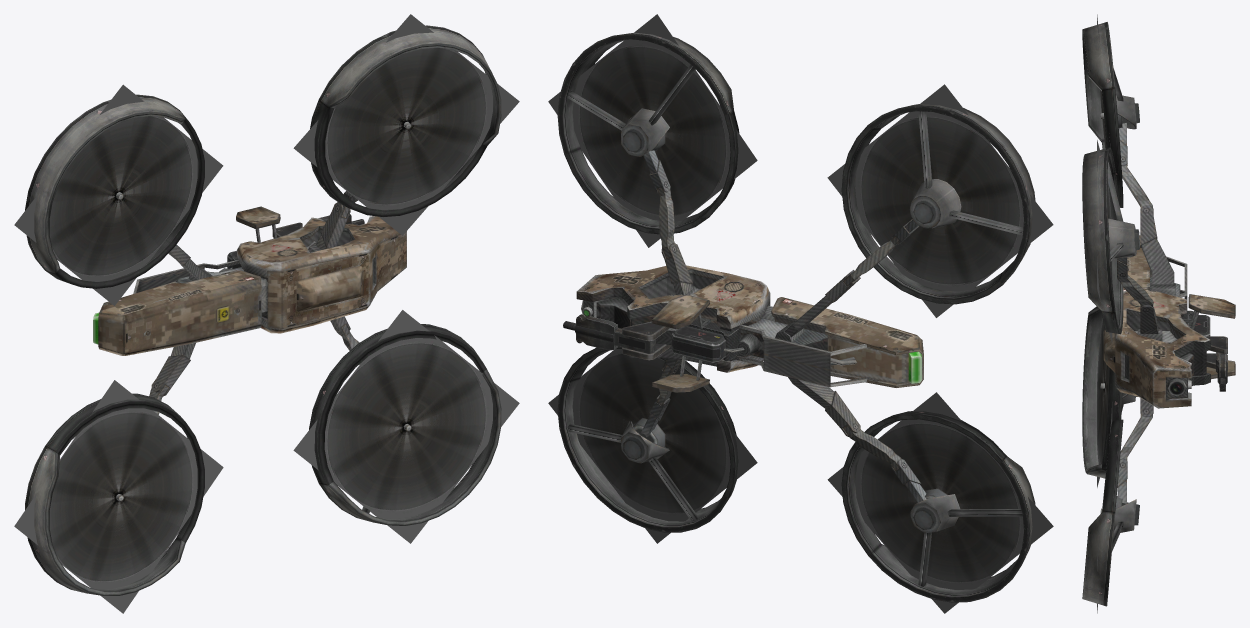
The model's file is veh_t6_drone_quad_rotor_mp_LOD1.obj.
The picture shows the model from 3 angles, left to right: view 1: azimuth 30°, elevation 25°; view 2: azimuth 150°, elevation 25°; view 3: azimuth 270°, elevation 25°; orthographic projection. The views are drawn at different scales.
Visible parts, largest first — view 1: mtl_t6_veh_drone_quad_rotor_blades, mtl_t6_veh_drone_quad_rotor_body; view 2: mtl_t6_veh_drone_quad_rotor_blades, mtl_t6_veh_drone_quad_rotor_body, mtl_t6_veh_drone_quad_rotor_gun; view 3: mtl_t6_veh_drone_quad_rotor_body, mtl_t6_veh_drone_quad_rotor_blades, mtl_t6_veh_drone_quad_rotor_gun.
Boxes of the visible parts, x1,y1,x2,y2 form: mtl_t6_veh_drone_quad_rotor_blades: (14,14,519,613); mtl_t6_veh_drone_quad_rotor_body: (25,25,501,595); mtl_t6_veh_drone_quad_rotor_blades: (548,14,1053,613); mtl_t6_veh_drone_quad_rotor_body: (557,33,1035,602); mtl_t6_veh_drone_quad_rotor_gun: (563,314,739,363); mtl_t6_veh_drone_quad_rotor_body: (1082,22,1235,606); mtl_t6_veh_drone_quad_rotor_blades: (1097,14,1112,613); mtl_t6_veh_drone_quad_rotor_gun: (1181,310,1227,391).
Bounding box in the file's own units: 100 × 100 × 29.38.
